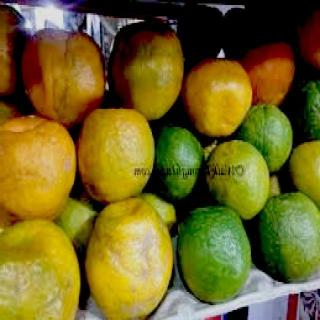orange: (0, 106, 78, 226), (89, 206, 172, 312), (82, 101, 158, 205)
